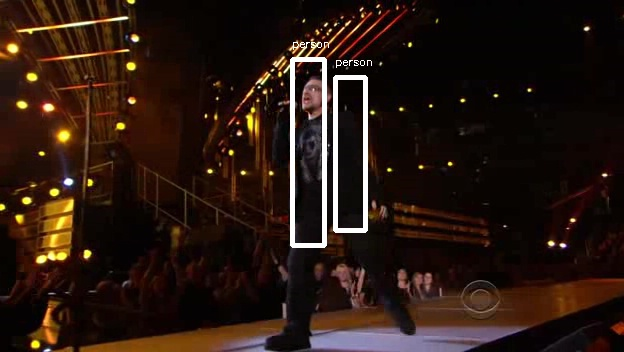person: (282, 76, 369, 248), (279, 76, 366, 248), (285, 76, 372, 248), (282, 73, 369, 245), (282, 79, 369, 251)
target_negative: (161, 298, 384, 347), (521, 151, 607, 262), (498, 26, 591, 66), (598, 76, 605, 173), (510, 161, 514, 232), (18, 268, 23, 288)
